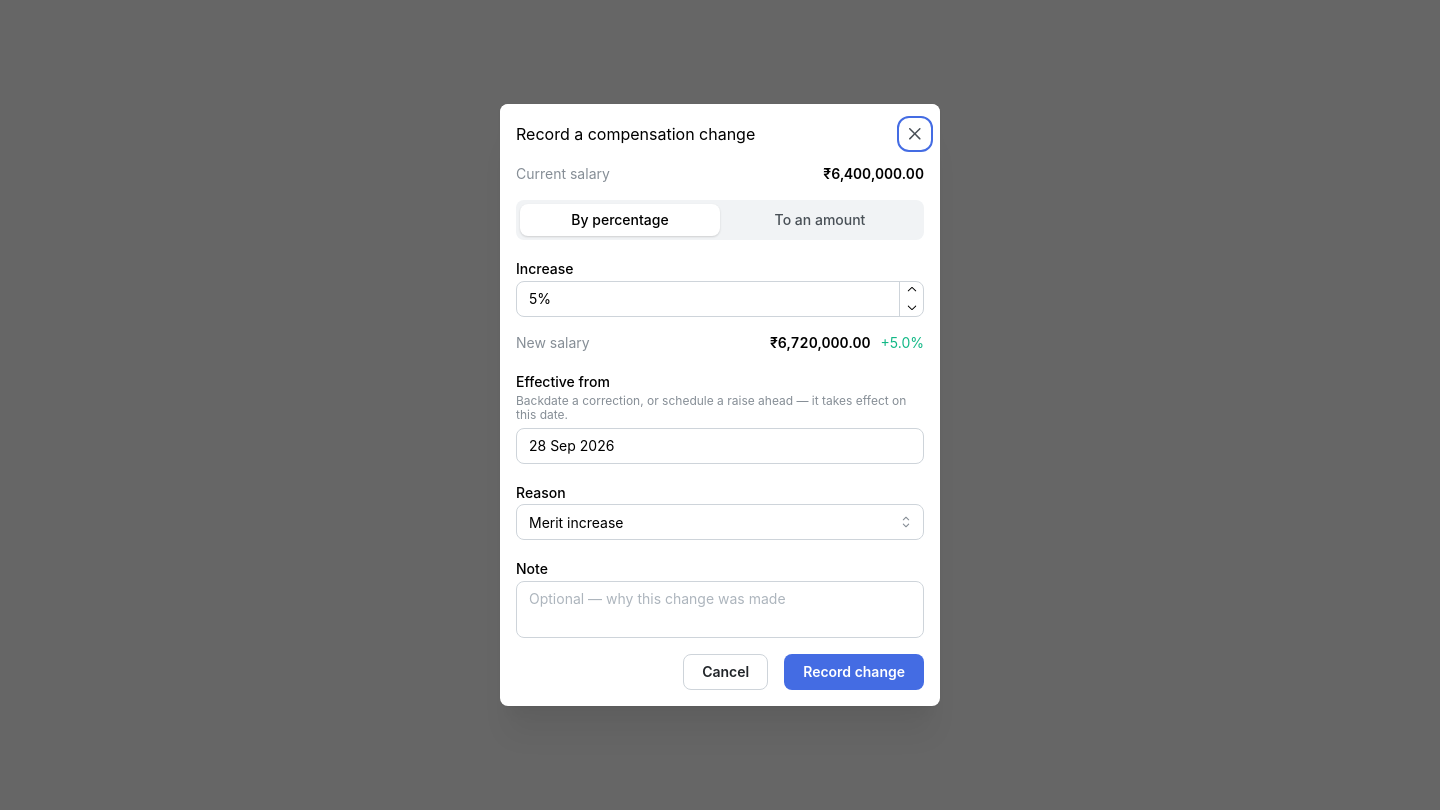
Test case: previewing a compensation change › recalculates as the percentage changes
The width and height of the screenshot is (1440, 810).
Replace the text in the field with test id "increase-percent" with "10" at [720, 299], box [516,281,924,317]
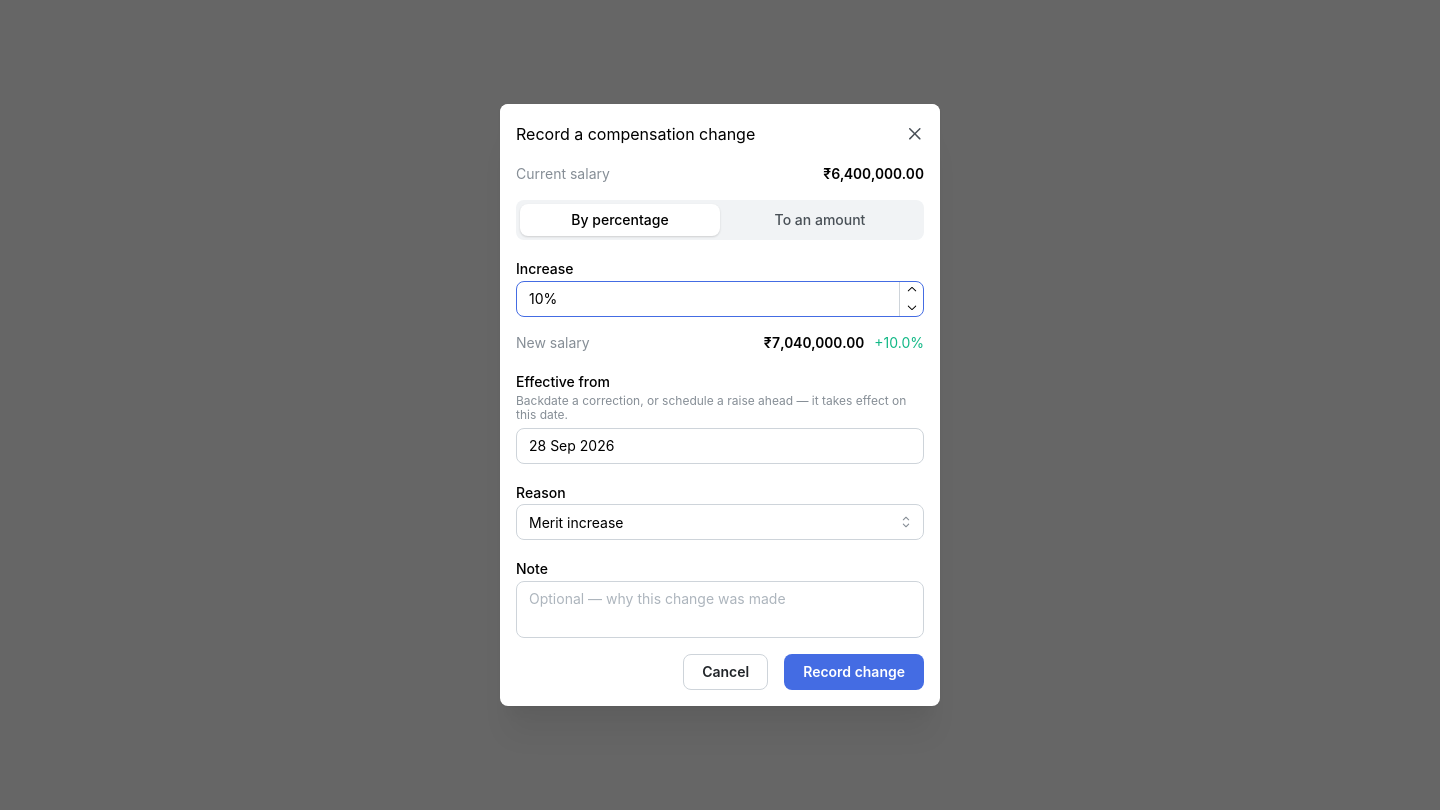
Result: the text with test id "projected-salary" reads "₹7,040,000.00" at [764,334,864,351]
